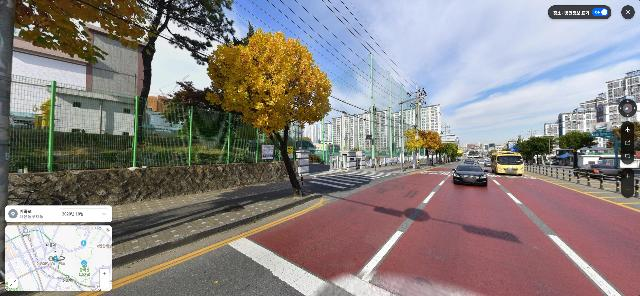ginkgo: (205, 27, 332, 198), (14, 1, 160, 65), (403, 128, 422, 169), (418, 130, 436, 166), (430, 132, 443, 164)
other: (108, 1, 241, 133), (161, 80, 236, 139), (556, 131, 596, 166), (524, 135, 556, 165), (513, 138, 534, 162), (444, 142, 460, 163), (437, 142, 450, 163)
